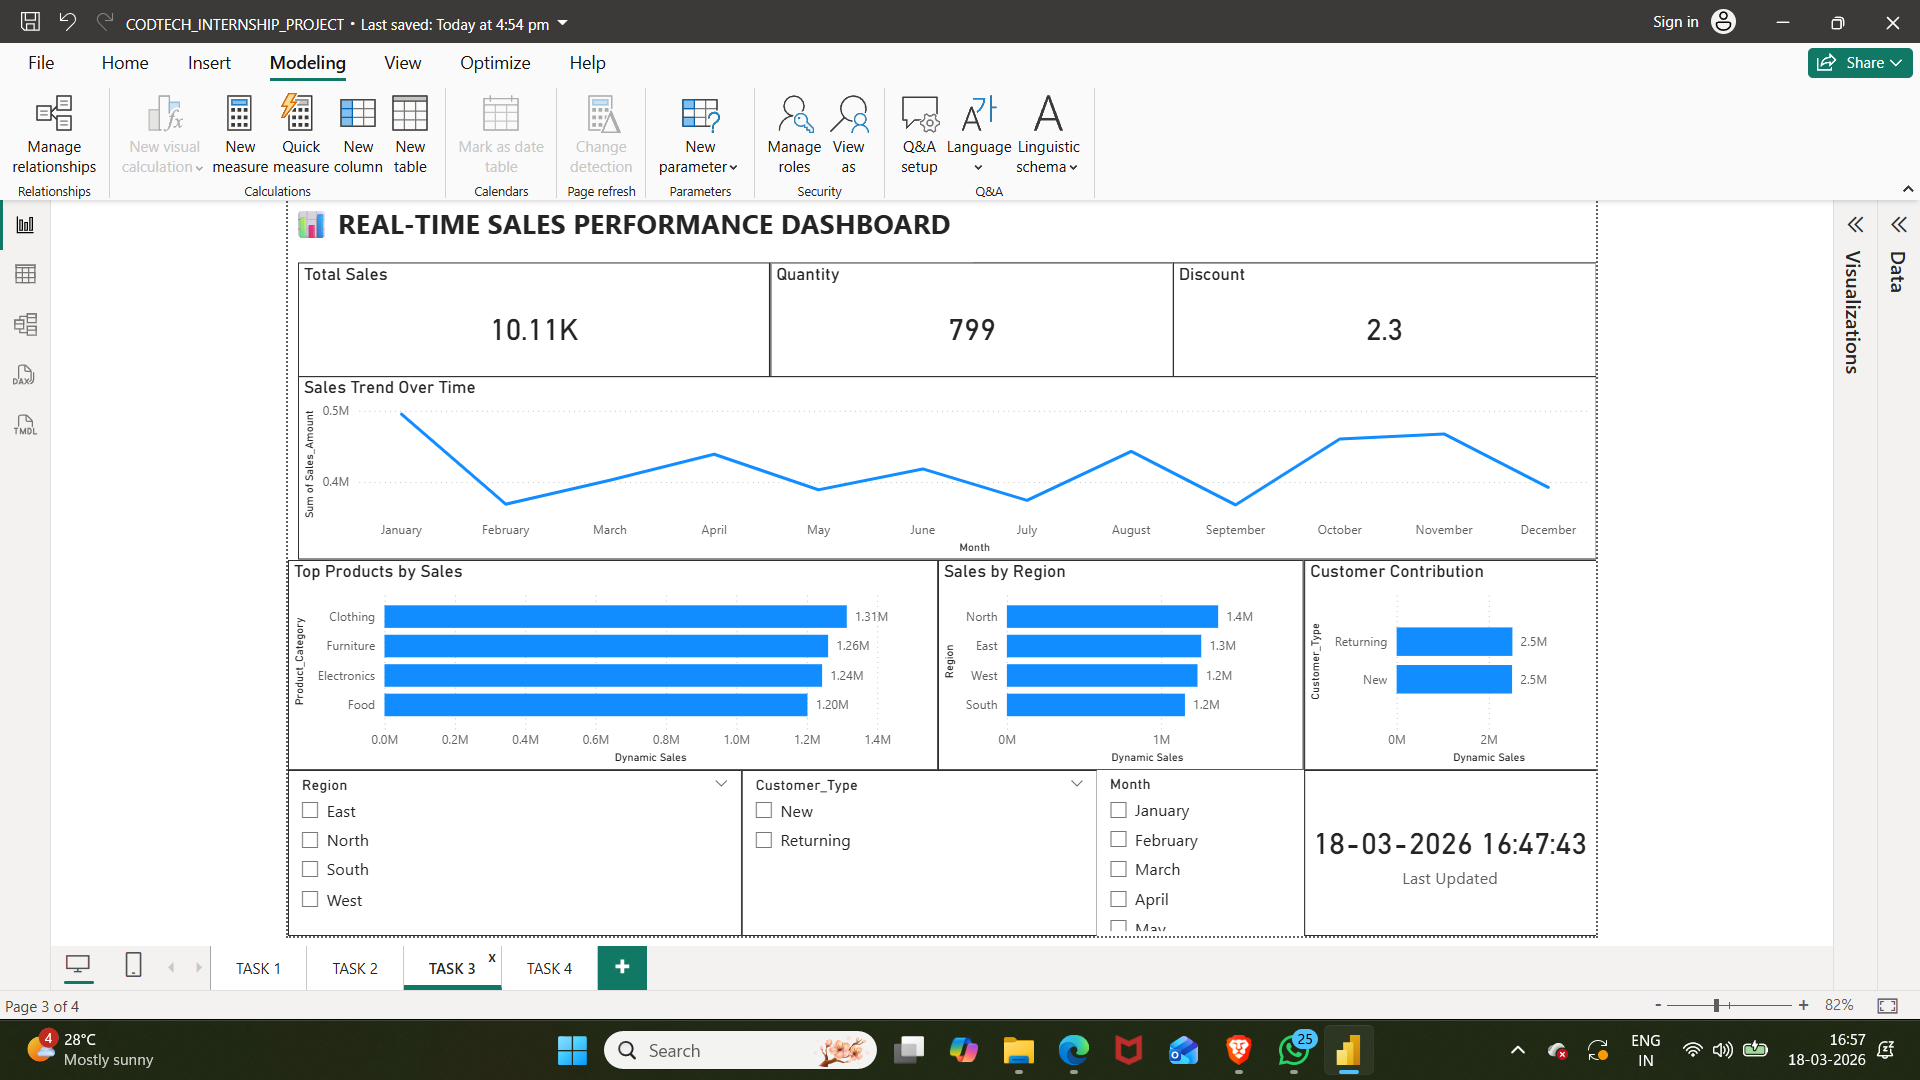

What the dashboard file says about the page in this screenshot:
{"tool":"powerbi","page":{"name":"TASK 3","canvas":[1280,720],"ordinal":2},"visuals":[{"type":"kpi","title":"Total Sales","fields":{"TrendLine":["sales_data.Sales_Amount"],"Indicator":["Sheet1.Total Sales Dynamic"]},"box":[10.2,61,461.8,111.8],"z":0},{"type":"kpi","title":"Quantity","fields":{"TrendLine":["sales_data.Quantity_Sold"],"Indicator":["Sheet1.Quantity Dynamic"]},"box":[472,61,394.1,111.8],"z":1000},{"type":"kpi","title":"Discount","fields":{"TrendLine":["sales_data.Discount"],"Indicator":["Sheet1.Discount Dynamic"]},"box":[866.1,61,414.4,111.8],"z":2000},{"type":"lineChart","title":"Sales Trend Over Time","fields":{"Category":["sales_data.Sale_Date.Variation.Date Hierarchy.Month"],"Y":["Sum(sales_data.Sales_Amount)"]},"box":[10.2,172.8,1270.3,179.5],"z":3000},{"type":"barChart","title":"Top Products by Sales","fields":{"Category":["sales_data.Product_Category"],"Y":["Sheet1.Dynamic Sales"]},"box":[0,352.3,635.7,205.5],"z":4000},{"type":"barChart","title":"Sales by Region","fields":{"Category":["sales_data.Region"],"Y":["Sheet1.Dynamic Sales"]},"box":[635.7,352.3,357.9,205.5],"z":5000},{"type":"barChart","title":"Customer Contribution","fields":{"Category":["sales_data.Customer_Type"],"Y":["Sheet1.Dynamic Sales"]},"box":[993.7,352.3,286.8,205.5],"z":6000},{"type":"slicer","fields":{"Values":["sales_data.Region"]},"box":[0,557.8,443.8,162.6],"z":7000},{"type":"slicer","fields":{"Values":["sales_data.Customer_Type"]},"box":[443.8,557.8,347.8,162.6],"z":8000},{"type":"slicer","fields":{"Values":["sales_data.Sale_Date.Variation.Date Hierarchy.Month"]},"box":[791.2,557.6,489.1,162.6],"z":9000},{"type":"textbox","box":[0,0,669.6,61],"z":10000},{"type":"card","fields":{"Values":["Sheet1.Last Updated"]},"box":[994.2,557.6,286.1,162.6],"z":11000}]}

Visuals, with their boxes on the page's 1280x720 design canvas (x1, y1, x2, y2). These are canvas units, not pixel positions in the 1920x1080 screenshot, which may show the page scaled, cropped or inside an application window:
"Total Sales" kpi: x1=10 y1=61 x2=472 y2=173
"Quantity" kpi: x1=472 y1=61 x2=866 y2=173
"Discount" kpi: x1=866 y1=61 x2=1280 y2=173
"Sales Trend Over Time" lineChart: x1=10 y1=173 x2=1280 y2=352
"Top Products by Sales" barChart: x1=0 y1=352 x2=636 y2=558
"Sales by Region" barChart: x1=636 y1=352 x2=994 y2=558
"Customer Contribution" barChart: x1=994 y1=352 x2=1280 y2=558
slicer - sales_data.Region: x1=0 y1=558 x2=444 y2=720
slicer - sales_data.Customer_Type: x1=444 y1=558 x2=792 y2=720
slicer - sales_data.Sale_Date.Variation.Date Hierarchy.Month: x1=791 y1=558 x2=1280 y2=720
textbox: x1=0 y1=0 x2=670 y2=61
card - Sheet1.Last Updated: x1=994 y1=558 x2=1280 y2=720
